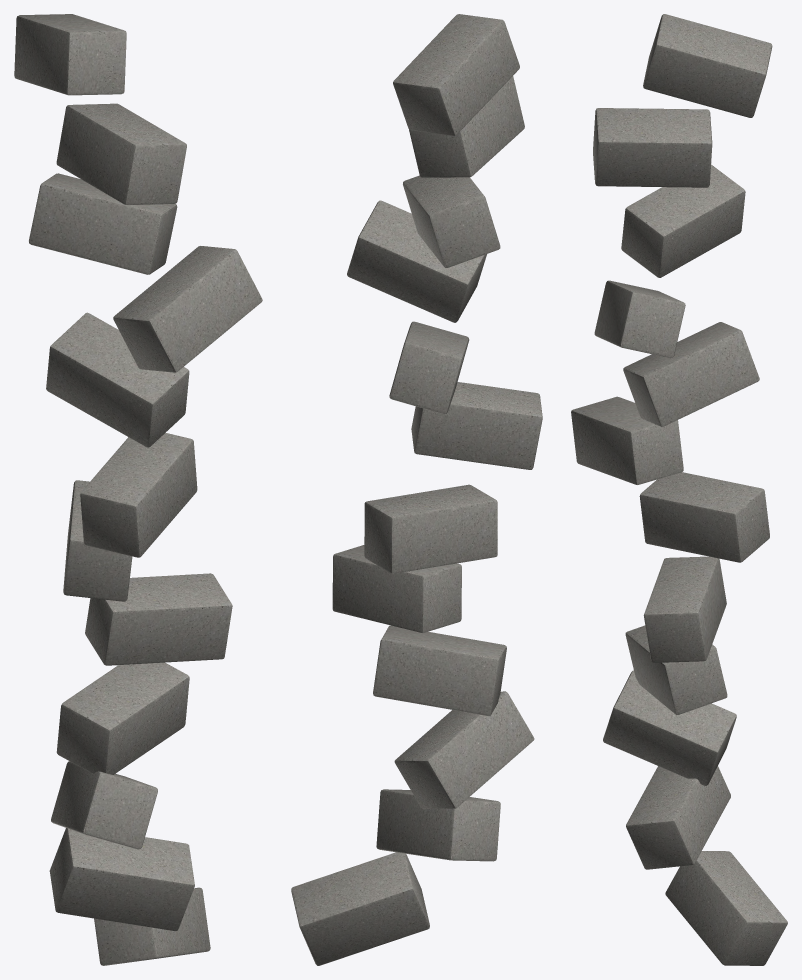
File: PAV-BLQ-003_anim.glb
The picture shows the model from 3 angles, left to right: view 1: azimuth 30°, elevation 25°; view 2: azimuth 150°, elevation 25°; view 3: azimuth 270°, elevation 25°; orthographic projection. The views are drawn at different scales.
Parts seen in each view (by area): view 1: PAV-BLQ-003_anim8, PAV-BLQ-003_anim1, PAV-BLQ-003_anim4, PAV-BLQ-003_anim7, PAV-BLQ-003_anim3, PAV-BLQ-003_anim6, PAV-BLQ-003_anim10, PAV-BLQ-003_anim9, PAV-BLQ-003_anim11, PAV-BLQ-003_anim2, PAV-BLQ-003_anim0, PAV-BLQ-003_anim5; view 2: PAV-BLQ-003_anim0, PAV-BLQ-003_anim11, PAV-BLQ-003_anim5, PAV-BLQ-003_anim3, PAV-BLQ-003_anim2, PAV-BLQ-003_anim6, PAV-BLQ-003_anim8, PAV-BLQ-003_anim4, PAV-BLQ-003_anim1, PAV-BLQ-003_anim9, PAV-BLQ-003_anim10, PAV-BLQ-003_anim7; view 3: PAV-BLQ-003_anim10, PAV-BLQ-003_anim5, PAV-BLQ-003_anim11, PAV-BLQ-003_anim0, PAV-BLQ-003_anim9, PAV-BLQ-003_anim7, PAV-BLQ-003_anim2, PAV-BLQ-003_anim1, PAV-BLQ-003_anim4, PAV-BLQ-003_anim6, PAV-BLQ-003_anim8, PAV-BLQ-003_anim3.
Boxes of the visible parts, x1,y1,x2,y2 form: PAV-BLQ-003_anim8: [113, 246, 262, 372]; PAV-BLQ-003_anim1: [49, 828, 194, 931]; PAV-BLQ-003_anim4: [85, 573, 232, 665]; PAV-BLQ-003_anim7: [46, 312, 189, 447]; PAV-BLQ-003_anim3: [56, 662, 189, 774]; PAV-BLQ-003_anim6: [80, 432, 197, 557]; PAV-BLQ-003_anim10: [56, 103, 186, 205]; PAV-BLQ-003_anim9: [29, 173, 177, 274]; PAV-BLQ-003_anim11: [14, 14, 126, 95]; PAV-BLQ-003_anim2: [51, 761, 157, 849]; PAV-BLQ-003_anim0: [94, 887, 210, 965]; PAV-BLQ-003_anim5: [63, 480, 132, 601]; PAV-BLQ-003_anim0: [291, 852, 429, 965]; PAV-BLQ-003_anim11: [393, 14, 519, 135]; PAV-BLQ-003_anim5: [364, 484, 497, 573]; PAV-BLQ-003_anim3: [373, 625, 506, 715]; PAV-BLQ-003_anim2: [394, 691, 534, 809]; PAV-BLQ-003_anim6: [411, 382, 542, 469]; PAV-BLQ-003_anim8: [347, 200, 486, 322]; PAV-BLQ-003_anim4: [332, 545, 461, 633]; PAV-BLQ-003_anim1: [376, 789, 500, 861]; PAV-BLQ-003_anim9: [403, 175, 500, 267]; PAV-BLQ-003_anim10: [409, 76, 524, 177]; PAV-BLQ-003_anim7: [389, 321, 469, 414]; PAV-BLQ-003_anim10: [593, 108, 712, 187]; PAV-BLQ-003_anim5: [639, 472, 769, 562]; PAV-BLQ-003_anim11: [643, 14, 772, 117]; PAV-BLQ-003_anim0: [665, 851, 787, 965]; PAV-BLQ-003_anim9: [621, 164, 745, 277]; PAV-BLQ-003_anim7: [623, 322, 759, 426]; PAV-BLQ-003_anim2: [603, 670, 736, 785]; PAV-BLQ-003_anim1: [626, 766, 730, 869]; PAV-BLQ-003_anim4: [643, 556, 726, 662]; PAV-BLQ-003_anim6: [571, 396, 683, 484]; PAV-BLQ-003_anim8: [594, 280, 685, 358]; PAV-BLQ-003_anim3: [625, 625, 727, 714].
Bounding box in the file's own units: 0.3535 × 1.71 × 0.3772.
Materials: 1 (1 with a texture image).
